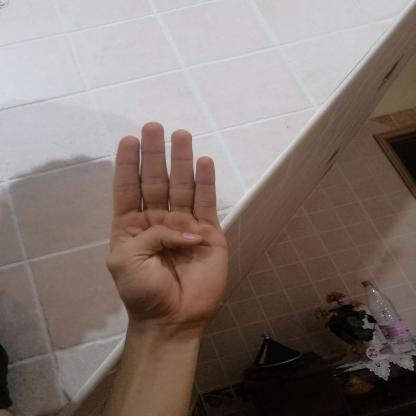KAAF: (87, 109, 254, 340)
